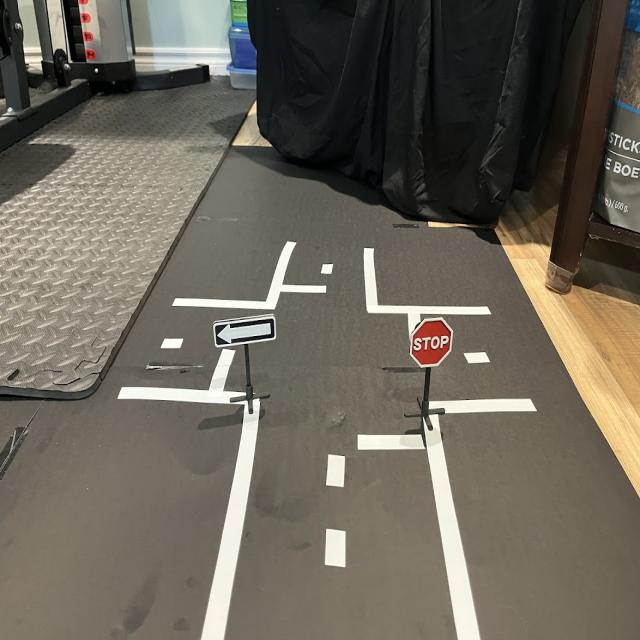sign_oneway_left: (213, 312, 275, 352)
sign_stop: (411, 319, 454, 369)
